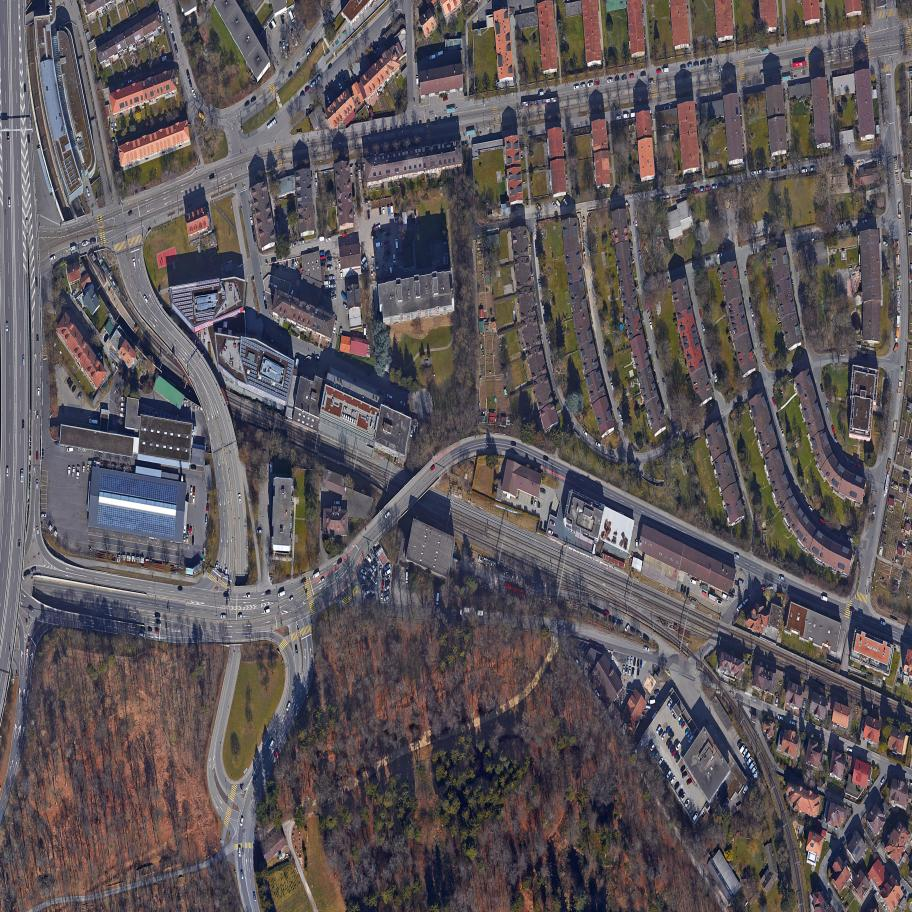large-vehicle: (475, 553, 538, 591), (37, 147, 54, 197), (520, 96, 560, 108), (196, 111, 208, 122), (371, 224, 382, 233), (792, 61, 806, 68), (738, 744, 747, 754), (359, 256, 368, 265), (817, 517, 826, 526), (361, 261, 369, 271), (746, 756, 754, 766), (744, 752, 752, 762), (651, 710, 659, 720), (741, 748, 749, 758), (332, 320, 338, 333), (288, 11, 295, 22), (268, 739, 275, 750), (736, 603, 744, 612), (893, 343, 899, 354), (88, 419, 99, 425), (270, 19, 277, 28), (277, 591, 286, 598), (312, 572, 321, 579), (435, 50, 444, 57), (721, 594, 730, 600), (475, 611, 484, 617), (428, 54, 437, 60), (20, 470, 24, 483), (76, 466, 80, 479), (689, 579, 697, 585), (317, 236, 325, 242), (436, 592, 440, 604), (648, 699, 656, 705), (662, 67, 670, 73), (78, 448, 87, 453), (390, 205, 394, 216), (395, 239, 399, 249), (387, 206, 391, 216), (375, 242, 382, 247), (644, 705, 651, 710), (270, 462, 273, 473), (405, 572, 408, 583), (393, 254, 396, 263), (416, 76, 419, 85)
small-vehicle: (752, 769, 761, 779), (365, 591, 374, 600), (383, 563, 393, 571), (340, 292, 348, 302), (846, 536, 856, 544), (623, 623, 631, 633), (687, 734, 695, 744), (742, 784, 750, 794), (748, 761, 756, 771), (669, 775, 677, 785), (666, 741, 674, 751), (674, 754, 682, 764), (839, 835, 846, 846), (335, 558, 344, 566), (361, 563, 369, 572), (368, 567, 376, 576), (367, 571, 375, 580), (538, 487, 547, 495), (583, 646, 591, 655), (750, 765, 758, 774), (679, 764, 687, 773), (683, 799, 691, 808), (827, 887, 834, 897), (69, 245, 79, 252), (555, 198, 562, 208), (660, 731, 667, 741), (326, 94, 332, 105), (314, 75, 322, 83), (309, 80, 317, 88), (383, 511, 391, 519), (70, 290, 78, 298), (807, 505, 815, 513), (581, 643, 589, 651), (305, 48, 312, 57), (310, 42, 317, 51), (249, 96, 258, 103), (366, 575, 373, 584), (366, 555, 373, 564), (371, 577, 378, 586), (273, 750, 280, 759), (23, 570, 32, 577), (582, 429, 589, 438), (880, 234, 889, 241), (853, 462, 862, 469), (389, 382, 398, 389), (820, 595, 829, 602), (103, 333, 110, 342), (642, 635, 651, 642), (600, 699, 607, 708), (655, 725, 662, 734), (665, 725, 672, 734), (548, 520, 557, 527), (675, 742, 682, 751), (692, 812, 699, 821), (680, 793, 687, 802), (665, 770, 672, 779), (662, 763, 669, 772), (651, 747, 658, 756), (665, 738, 672, 747), (673, 751, 680, 760), (664, 766, 671, 775), (342, 75, 348, 85), (286, 701, 292, 711), (191, 89, 197, 99), (610, 382, 616, 392), (287, 71, 294, 79), (303, 86, 311, 93), (298, 91, 306, 98), (324, 251, 332, 258), (208, 174, 216, 181), (369, 594, 377, 601), (384, 569, 392, 576), (383, 579, 391, 586), (370, 581, 377, 589), (342, 303, 350, 310), (364, 559, 371, 567), (360, 569, 368, 576), (89, 237, 97, 244), (71, 385, 78, 393), (27, 606, 35, 613), (372, 47, 380, 54), (535, 203, 542, 211), (551, 201, 558, 209), (846, 747, 854, 754), (832, 740, 840, 747), (844, 829, 851, 837), (96, 352, 103, 360), (666, 700, 673, 708), (635, 631, 643, 638), (629, 627, 637, 634), (399, 400, 407, 407), (737, 578, 745, 585), (736, 739, 743, 747), (659, 760, 666, 768), (685, 778, 693, 785), (649, 743, 656, 751), (669, 745, 676, 753), (71, 466, 76, 477), (655, 349, 660, 360), (409, 427, 414, 438), (337, 81, 343, 90), (369, 549, 375, 558), (374, 555, 380, 564), (372, 558, 378, 567), (48, 255, 57, 261), (68, 380, 74, 389), (143, 295, 149, 304), (671, 712, 677, 721), (618, 620, 624, 629), (678, 789, 684, 798), (671, 749, 677, 758), (214, 562, 219, 572), (252, 892, 257, 902), (239, 817, 244, 827), (159, 12, 164, 22), (186, 70, 191, 80), (132, 258, 137, 268), (661, 377, 666, 387), (698, 308, 703, 318), (533, 497, 538, 507), (295, 62, 302, 69), (383, 590, 390, 597), (369, 586, 376, 593), (66, 378, 73, 385), (843, 455, 850, 462), (587, 81, 594, 88), (879, 778, 886, 785), (429, 465, 436, 472), (579, 642, 586, 649), (742, 598, 749, 605), (681, 771, 688, 778), (243, 101, 251, 107), (363, 590, 371, 596), (384, 574, 392, 580), (383, 585, 391, 591), (364, 371, 372, 377), (330, 295, 338, 301), (359, 574, 367, 580), (371, 564, 377, 572), (263, 608, 271, 614), (81, 241, 89, 247), (77, 392, 83, 400), (138, 632, 146, 638), (30, 567, 38, 573), (542, 456, 550, 462), (563, 198, 569, 206), (363, 325, 367, 337), (623, 113, 631, 119), (834, 531, 842, 537), (841, 533, 849, 539), (116, 82, 124, 88), (643, 646, 651, 652), (594, 689, 600, 697), (678, 718, 684, 726), (669, 703, 675, 711), (684, 728, 690, 736), (686, 731, 692, 739), (575, 658, 581, 666), (680, 721, 686, 729), (727, 592, 735, 598), (669, 732, 675, 740), (668, 773, 674, 781), (673, 739, 679, 747), (674, 782, 680, 790), (658, 757, 664, 765), (249, 216, 254, 225), (166, 15, 171, 24), (825, 404, 830, 413), (649, 321, 654, 330), (611, 616, 616, 625), (778, 421, 783, 430), (771, 397, 776, 406), (287, 45, 291, 56), (67, 466, 71, 477), (326, 64, 333, 70), (323, 280, 330, 286), (386, 393, 393, 399), (376, 389, 383, 395), (314, 355, 321, 361), (300, 578, 307, 584), (127, 211, 134, 217), (716, 252, 723, 258), (882, 241, 889, 247), (848, 459, 855, 465), (594, 80, 601, 86), (396, 386, 403, 392), (404, 389, 411, 395), (595, 442, 602, 448), (880, 620, 887, 626), (315, 361, 321, 368), (705, 256, 712, 262), (374, 52, 381, 58), (658, 729, 664, 736), (547, 529, 554, 535), (789, 720, 796, 726), (777, 715, 784, 721), (778, 575, 785, 581), (733, 553, 740, 559), (716, 599, 723, 605), (733, 580, 740, 586), (753, 590, 760, 596), (654, 752, 660, 759), (326, 266, 334, 271), (291, 30, 295, 40), (238, 494, 242, 504), (292, 40, 296, 50), (264, 300, 268, 310), (282, 39, 286, 49), (328, 343, 333, 351), (61, 405, 65, 415), (192, 495, 196, 505), (169, 26, 174, 34), (174, 43, 178, 53), (820, 383, 824, 393), (538, 279, 542, 289), (537, 91, 545, 96), (607, 371, 612, 379), (631, 667, 635, 677), (628, 666, 632, 676), (543, 521, 547, 531), (668, 729, 673, 737), (775, 697, 779, 707), (802, 698, 806, 708), (752, 317, 756, 327), (326, 257, 332, 263), (224, 569, 228, 578), (251, 225, 255, 234), (291, 260, 295, 269), (279, 43, 283, 52), (373, 546, 377, 555), (378, 566, 382, 575), (265, 590, 271, 596), (86, 187, 90, 196), (183, 525, 187, 534), (191, 536, 195, 545), (240, 871, 244, 880), (171, 33, 175, 42), (834, 434, 838, 443), (831, 425, 835, 434), (603, 350, 607, 359), (870, 514, 874, 523), (801, 168, 807, 174), (635, 538, 639, 547), (849, 607, 855, 613), (223, 592, 229, 598), (744, 272, 748, 281), (625, 665, 629, 674), (530, 497, 534, 506), (604, 610, 610, 616), (776, 412, 780, 421), (750, 308, 754, 317), (325, 237, 332, 242), (292, 241, 299, 246), (341, 233, 348, 238), (220, 614, 227, 619), (361, 586, 368, 591), (383, 596, 390, 601), (324, 285, 331, 290), (190, 465, 197, 470), (510, 442, 517, 447), (573, 85, 580, 90), (764, 168, 771, 173), (628, 74, 635, 79), (664, 105, 671, 110), (692, 188, 699, 193), (285, 48, 288, 59), (238, 847, 241, 858), (285, 261, 289, 269), (263, 292, 267, 300), (367, 211, 371, 219), (154, 614, 162, 618), (25, 646, 29, 654), (189, 80, 193, 88), (680, 585, 684, 593), (872, 506, 876, 514), (620, 418, 624, 426), (748, 298, 752, 306), (639, 660, 643, 668), (636, 668, 640, 676), (629, 657, 633, 665), (539, 521, 543, 529), (608, 615, 612, 623), (614, 619, 618, 627), (781, 430, 785, 438), (315, 178, 318, 188), (299, 240, 305, 245), (319, 251, 325, 256), (288, 597, 294, 602), (205, 515, 208, 525), (285, 37, 288, 47), (382, 569, 385, 579), (330, 288, 336, 293), (319, 578, 325, 583), (24, 84, 27, 94), (22, 355, 25, 365), (37, 387, 40, 397), (54, 441, 60, 446), (67, 447, 73, 452), (186, 525, 189, 535), (186, 534, 189, 544), (177, 587, 183, 592), (119, 413, 125, 418), (140, 627, 146, 632), (120, 402, 126, 407), (839, 161, 845, 166), (781, 165, 787, 170), (707, 59, 713, 64), (640, 72, 646, 77), (127, 79, 133, 84), (384, 240, 390, 245), (442, 96, 448, 101), (801, 708, 804, 718), (36, 527, 40, 534), (683, 587, 687, 594), (686, 589, 690, 596), (785, 447, 789, 454), (340, 270, 343, 279), (206, 503, 209, 512), (207, 493, 210, 502), (381, 581, 384, 590), (295, 645, 298, 654), (27, 135, 30, 144), (7, 132, 10, 141), (8, 199, 11, 208), (35, 278, 38, 287), (186, 494, 189, 503), (36, 452, 39, 461), (6, 468, 9, 477), (848, 142, 851, 151), (639, 251, 642, 260), (702, 323, 705, 332), (41, 449, 44, 458), (623, 665, 626, 674), (425, 597, 428, 606), (257, 529, 262, 534), (120, 407, 125, 412), (41, 513, 46, 518), (718, 67, 723, 72), (761, 70, 766, 75), (528, 132, 533, 137), (810, 167, 815, 172), (385, 232, 390, 237), (320, 256, 326, 260), (338, 260, 341, 268), (329, 276, 335, 280), (253, 234, 256, 242), (271, 258, 277, 262), (330, 284, 336, 288), (360, 581, 366, 585), (380, 592, 383, 600), (334, 501, 340, 505), (382, 207, 385, 215), (6, 323, 9, 331), (36, 334, 39, 342), (190, 487, 193, 495), (193, 487, 196, 495), (183, 534, 186, 542), (147, 628, 153, 632), (18, 540, 21, 548), (28, 636, 31, 644), (120, 397, 126, 401), (862, 219, 868, 223), (846, 222, 852, 226), (645, 300, 648, 308), (712, 185, 718, 189), (705, 187, 711, 191), (680, 191, 686, 195), (757, 170, 763, 174), (700, 61, 706, 65), (693, 62, 699, 66), (680, 65, 686, 69), (648, 80, 654, 84), (614, 77, 620, 81), (607, 79, 613, 83), (832, 224, 838, 228), (900, 668, 903, 676), (637, 659, 640, 667), (633, 658, 636, 666), (627, 656, 630, 664), (617, 620, 620, 628), (767, 586, 773, 590), (379, 208, 382, 215), (375, 571, 378, 578), (36, 412, 39, 419), (276, 262, 279, 269), (324, 276, 329, 280), (330, 280, 335, 284), (156, 620, 161, 624), (155, 629, 160, 633), (580, 84, 585, 88), (751, 171, 756, 175), (771, 168, 776, 172), (778, 67, 783, 71), (656, 70, 661, 74), (622, 76, 627, 80), (616, 116, 621, 120), (546, 90, 551, 94), (394, 215, 399, 219), (395, 219, 400, 223), (22, 421, 24, 430), (36, 480, 38, 489), (654, 691, 660, 694), (238, 614, 242, 618), (246, 594, 250, 598), (839, 224, 844, 227), (700, 188, 705, 191), (687, 64, 692, 67), (190, 527, 192, 534)
